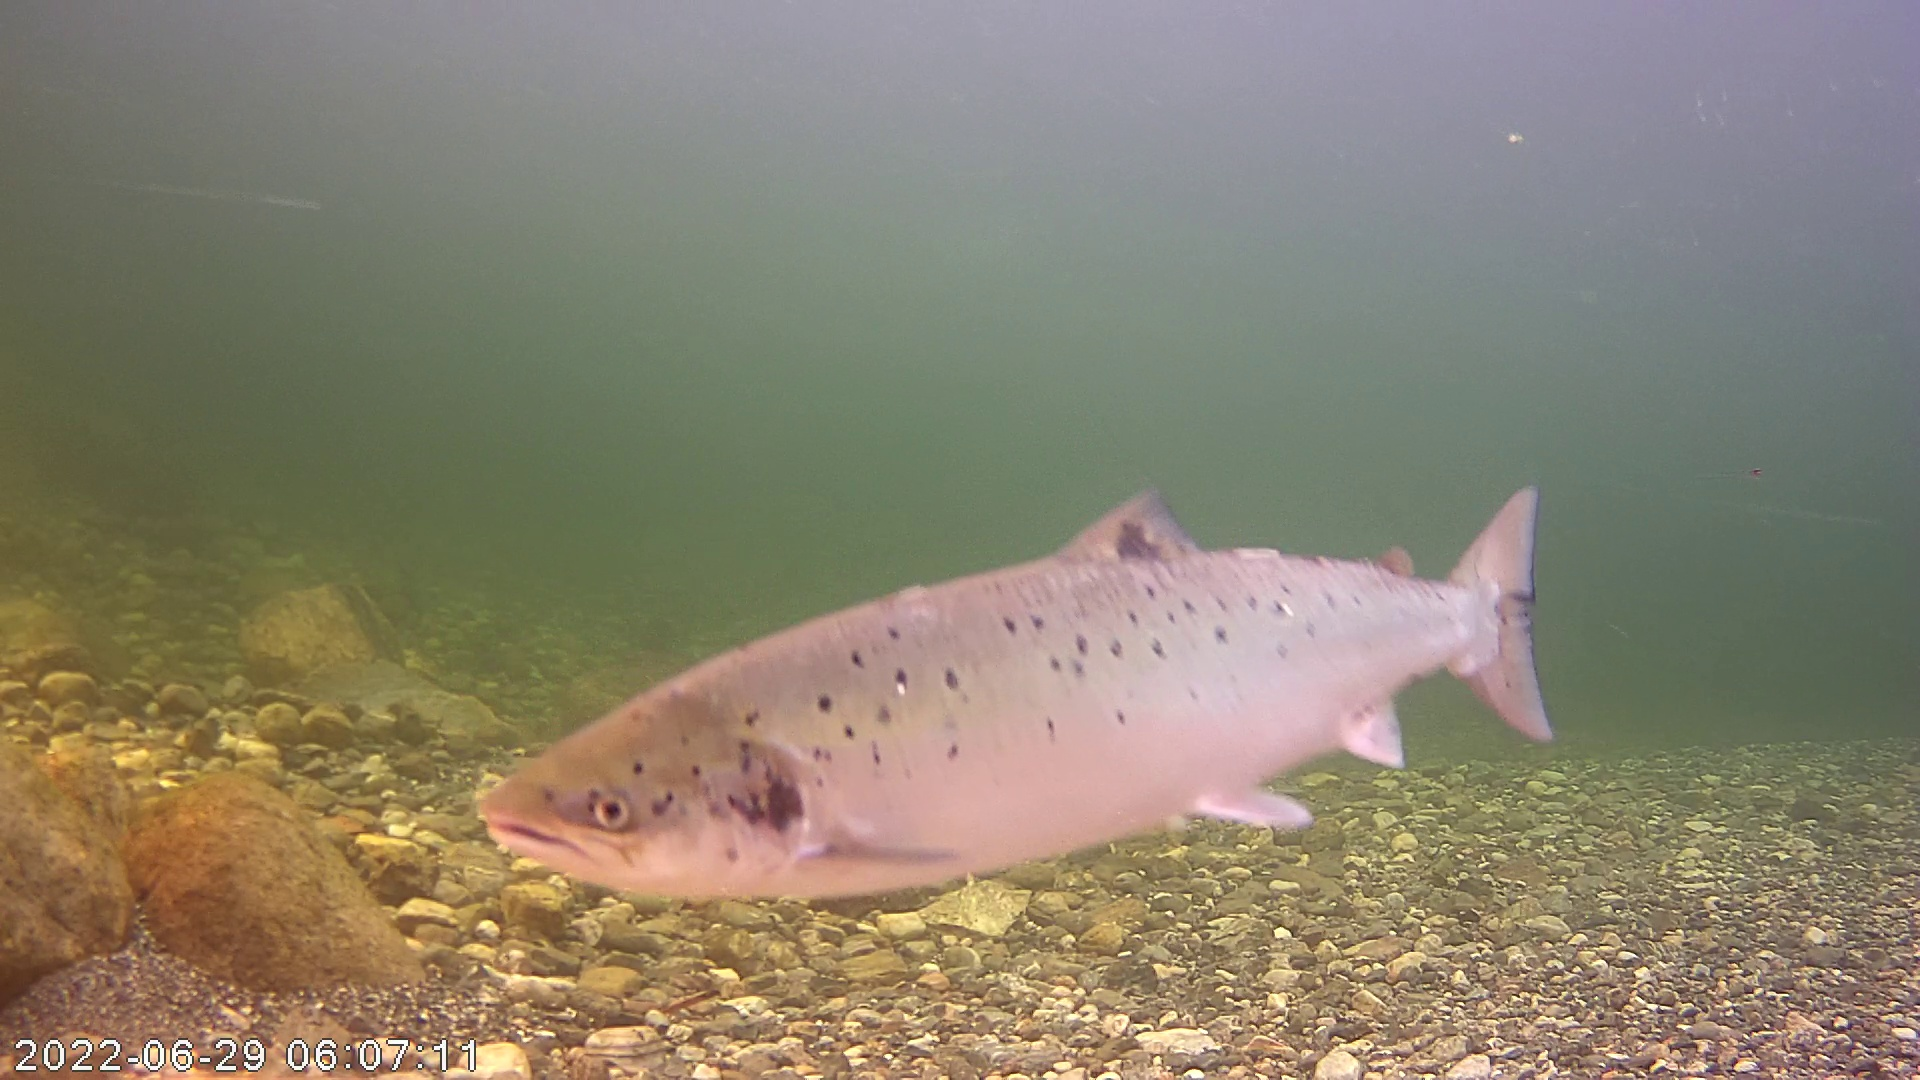salmon: (498, 407, 1540, 890)
